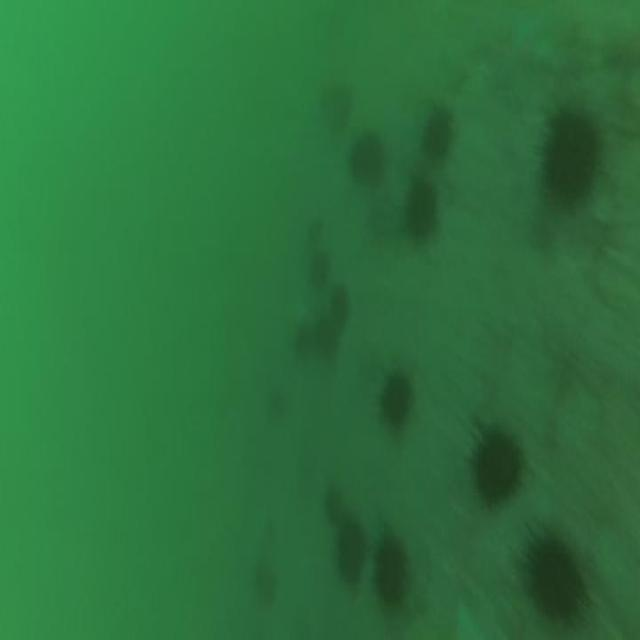echinus: (518, 515, 598, 634), (532, 100, 610, 216), (465, 418, 524, 506), (391, 169, 449, 258), (368, 518, 412, 620), (345, 120, 393, 199), (332, 506, 372, 591), (377, 360, 417, 433), (416, 100, 457, 169), (330, 282, 351, 331), (317, 314, 339, 360), (294, 321, 318, 360), (311, 248, 331, 291)
